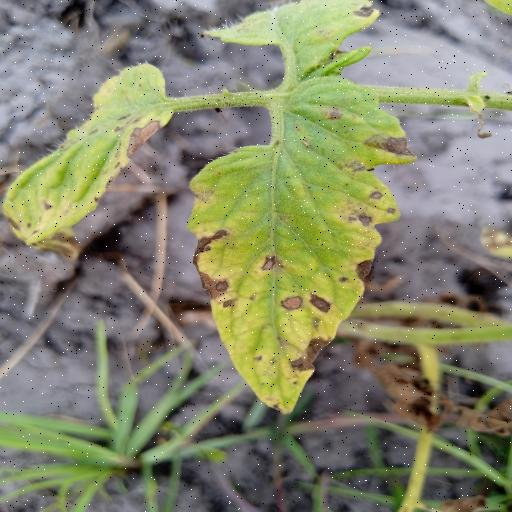Tomato_Brown_Spots: (188, 74, 418, 418), (0, 58, 177, 268)
